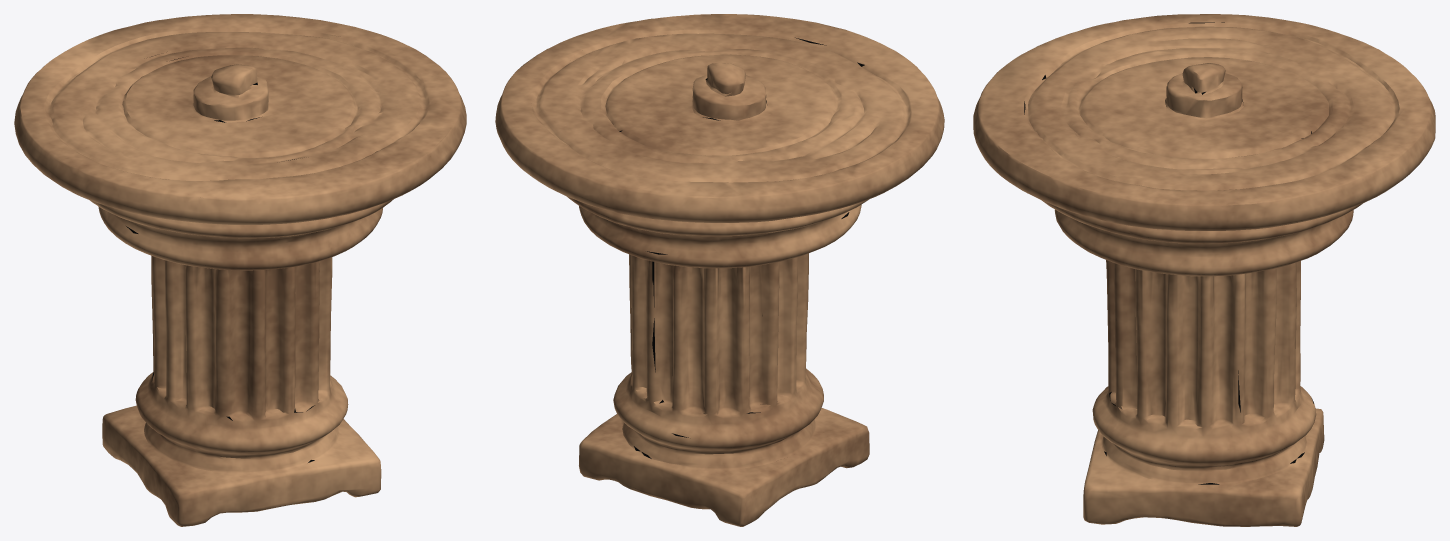
File: pedestal-sundial-v001.glb
The picture shows the model from 3 angles, left to right: view 1: azimuth 30°, elevation 25°; view 2: azimuth 150°, elevation 25°; view 3: azimuth 270°, elevation 25°; orthographic projection. The views are drawn at different scales.
Visible parts, largest first — view 1: pedestal-sundial; view 2: pedestal-sundial; view 3: pedestal-sundial.
Boxes of the visible parts, x1,y1,x2,y2 form: pedestal-sundial: (14, 14, 466, 526); pedestal-sundial: (495, 14, 944, 526); pedestal-sundial: (973, 14, 1435, 526).
Bounding box in the file's own units: 0.8985 × 0.8876 × 0.8957.
1 material, 1 textured.
